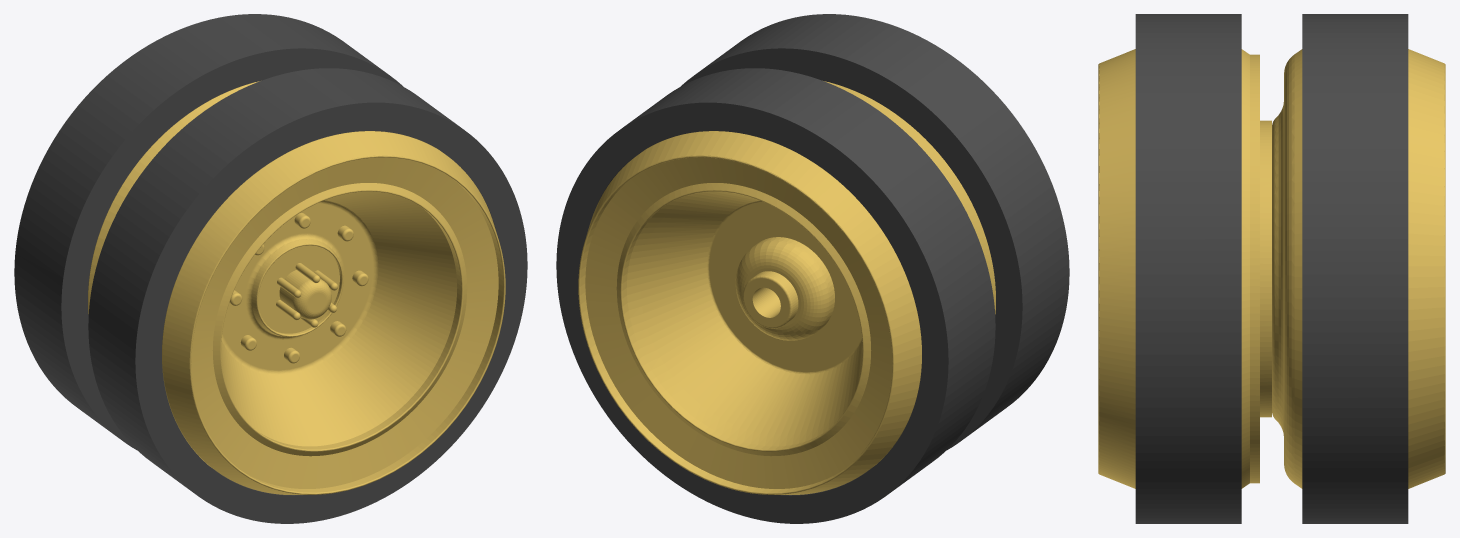
Rendered from wheel_basic.dae.
3 renders of one model, left to right at view 1: azimuth 30°, elevation 25°; view 2: azimuth 150°, elevation 25°; view 3: azimuth 270°, elevation 25°, orthographic. The views are drawn at different scales.
Parts seen in each view (by area): view 1: Part 1 (×4); view 2: Part 1 (×4); view 3: Part 1 (×4).
Part boxes in pixels (x1,y1,x2,y2): Part 1 (×4): [14, 14, 527, 523]; Part 1 (×4): [556, 14, 1069, 523]; Part 1 (×4): [1098, 14, 1445, 523].
Size of the model in its own units: 0.0418 by 0.0285 by 0.0418.
